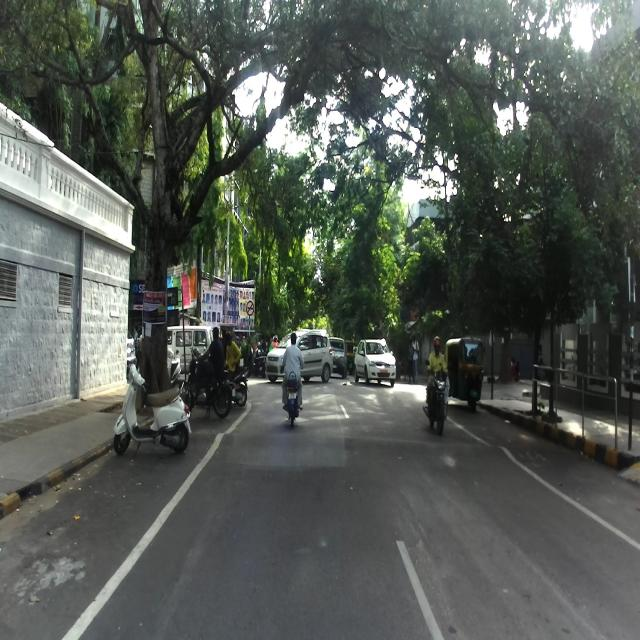Car_Maruti-Suzuki: (264, 328, 334, 383)
autorickshaw: (442, 334, 485, 413)
motorcycle_Honda: (422, 358, 449, 436)
motorcycle_RoyalEnfield: (178, 358, 236, 418)
motorcycle_TVS: (283, 358, 302, 427)
scooter: (112, 359, 191, 454), (212, 357, 249, 415)
